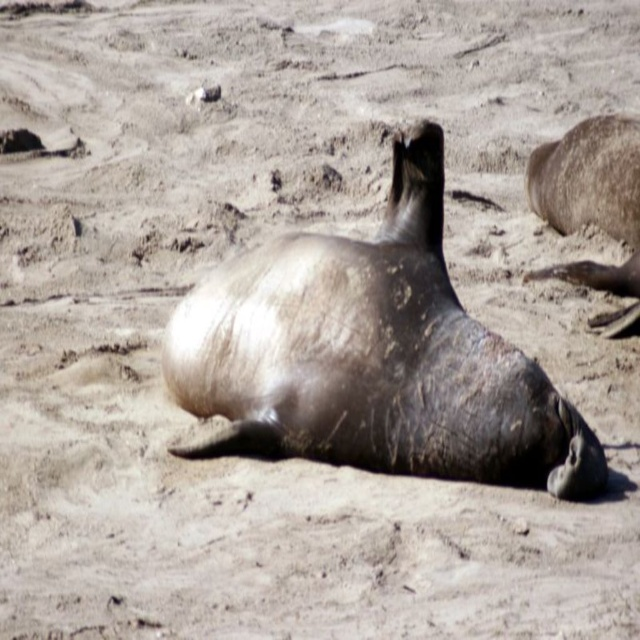Sea lion: (158, 116, 601, 503), (526, 116, 639, 339)
